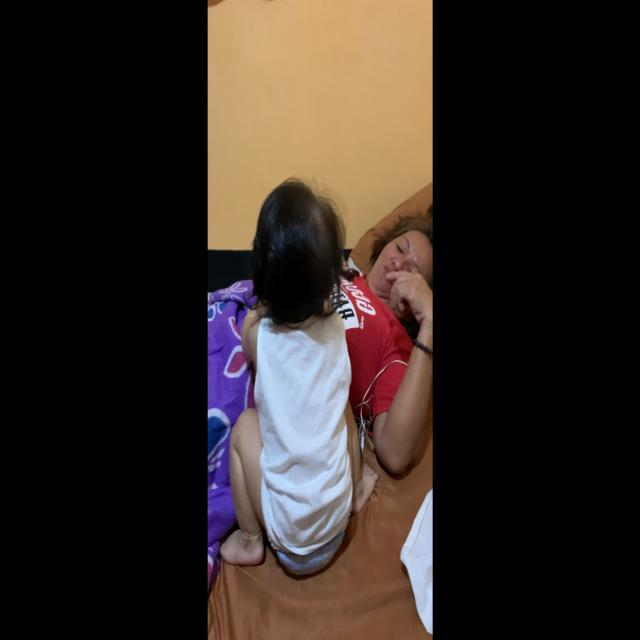adult: (208, 211, 434, 472)
child: (217, 177, 379, 582)
